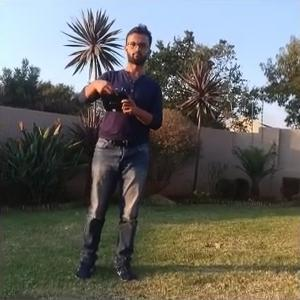follow: (67, 19, 165, 288)
